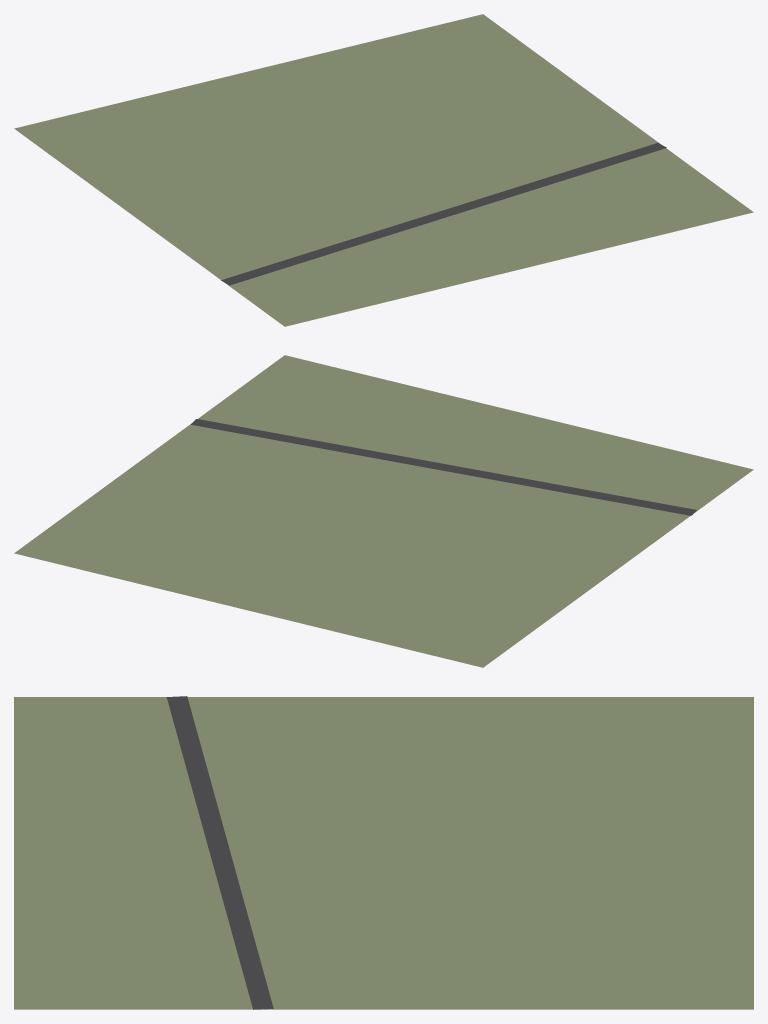
The picture shows the model from 3 angles, top to bottom: view 1: azimuth 30°, elevation 25°; view 2: azimuth 150°, elevation 25°; view 3: azimuth 270°, elevation 25°; orthographic projection. The views are drawn at different scales.
Visible parts, largest first — view 1: ground, road; view 2: ground, road; view 3: ground, road.
Boxes of the visible parts, x1=… form: ground: x1=14, y1=14, x2=753, y2=326; road: x1=221, y1=143, x2=666, y2=285; ground: x1=14, y1=355, x2=753, y2=667; road: x1=191, y1=419, x2=696, y2=515; ground: x1=14, y1=697, x2=753, y2=1009; road: x1=166, y1=696, x2=273, y2=1009.
Size of the model in its own units: 251 by 0.12 by 250.
